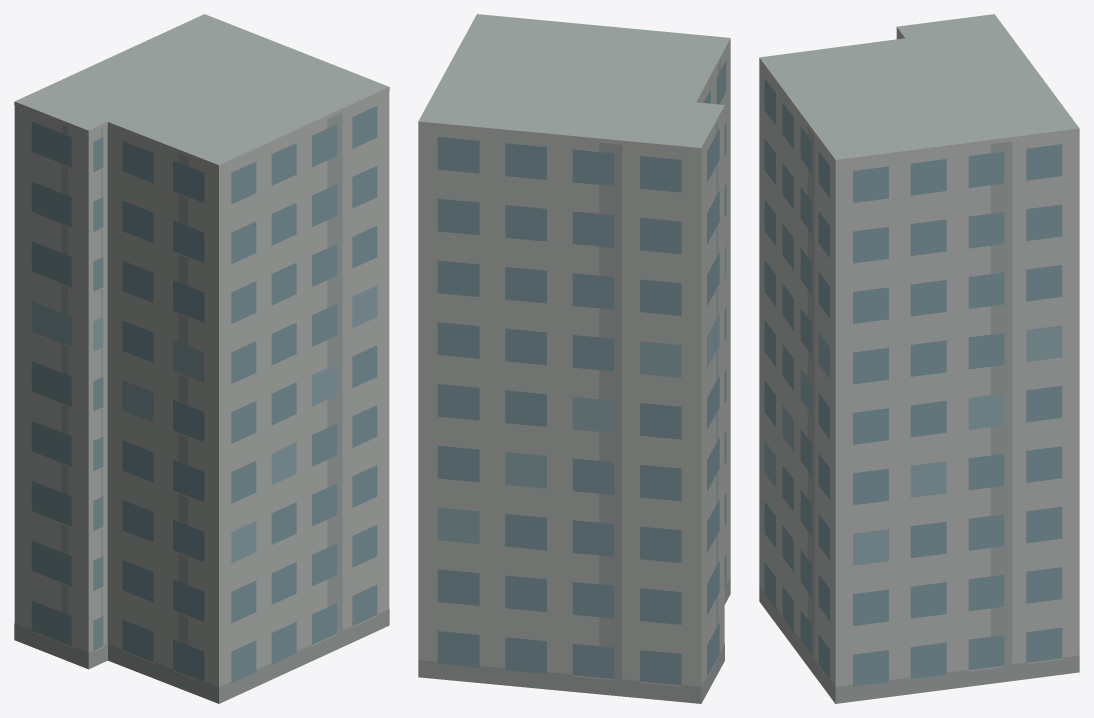
Rendered from survey-upis-32757608.glb.
3 views of the same model, side by side, from view 1: azimuth 30°, elevation 25°; view 2: azimuth 150°, elevation 25°; view 3: azimuth 270°, elevation 25° (orthographic). The views are drawn at different scales.
Visible parts, largest first — view 1: survey-upis-32757608.tmp; view 2: survey-upis-32757608.tmp; view 3: survey-upis-32757608.tmp.
Part boxes in pixels (<box>): survey-upis-32757608.tmp: <box>14,14,389,703</box>; survey-upis-32757608.tmp: <box>418,14,730,703</box>; survey-upis-32757608.tmp: <box>759,14,1079,703</box>.
Size of the model in its own units: 18.13 by 31.5 by 16.82.
